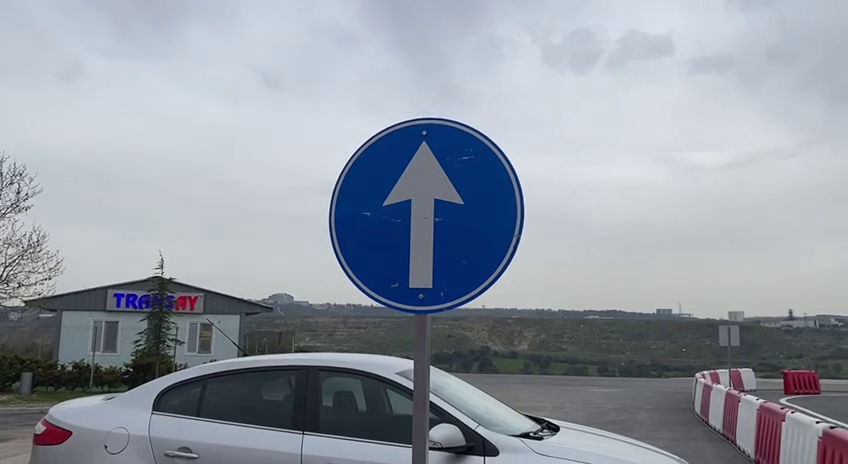forward: (324, 114, 527, 321)
